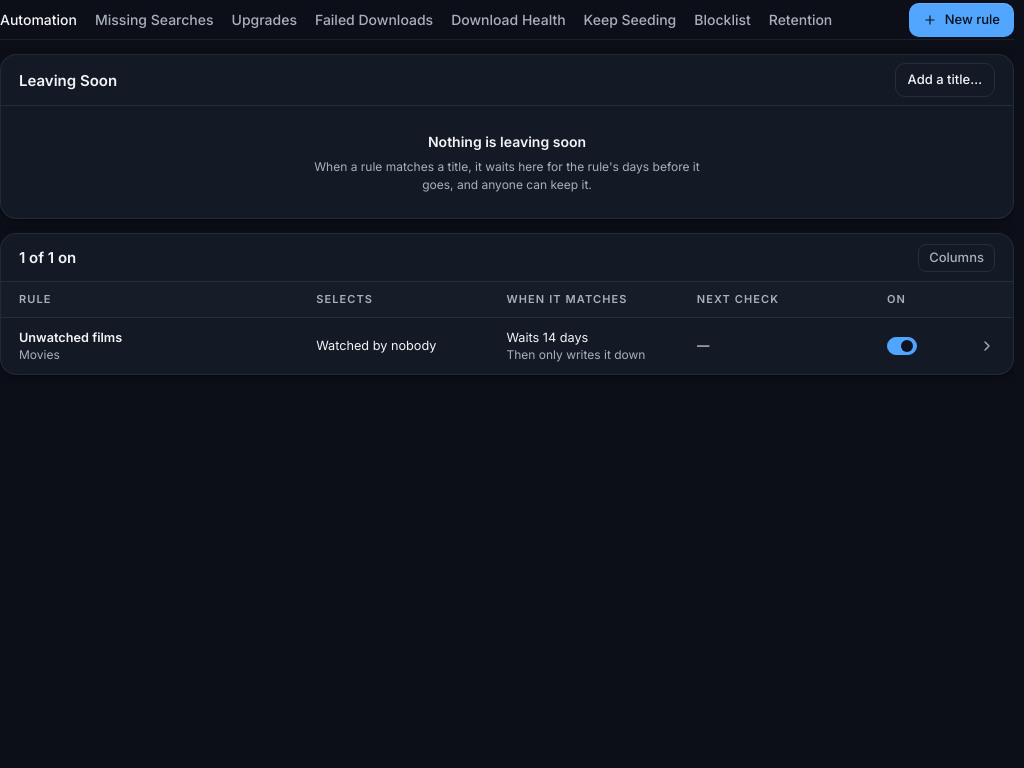
Scenario: Editing and switching a rule › opens the saved rule, and Save rule puts it back and says Saved just now
Click the text "Unwatched films": (71, 337) [19,330,122,345]
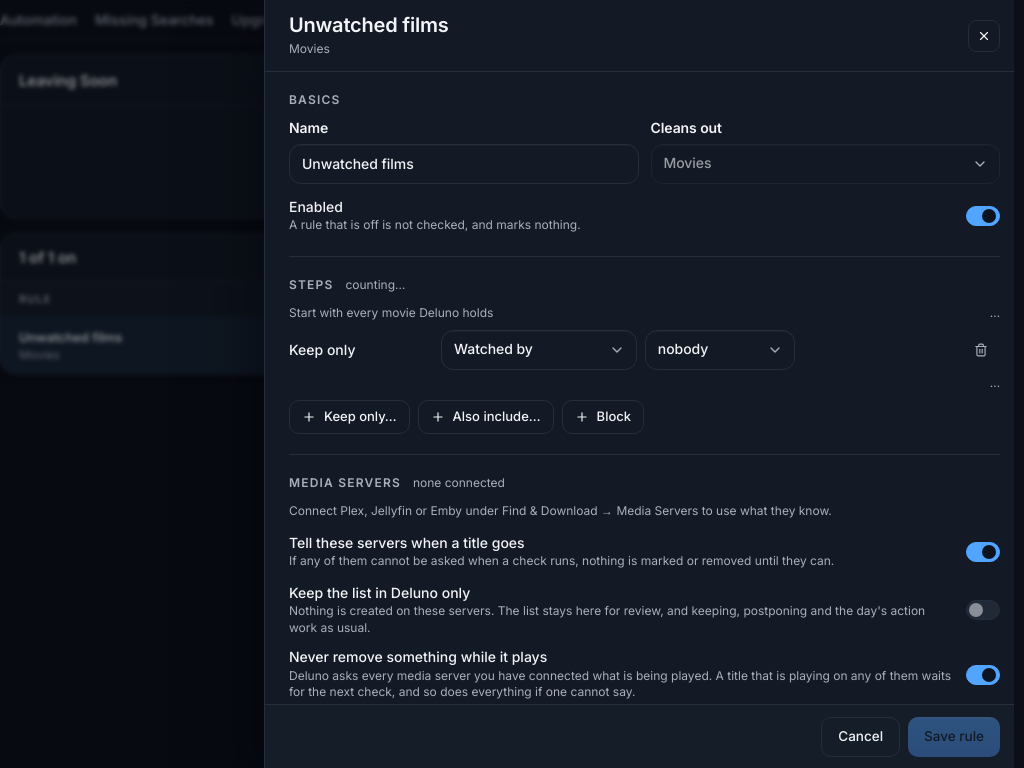
Expected: the field labelled "Name" holds "Unwatched films"
Expected: the dropdown labelled "Cleans out" is shown, [650,144,1000,184]
In the field labelled "Name": (464, 164) [289,144,638,184], type "Unwatched films (old)"
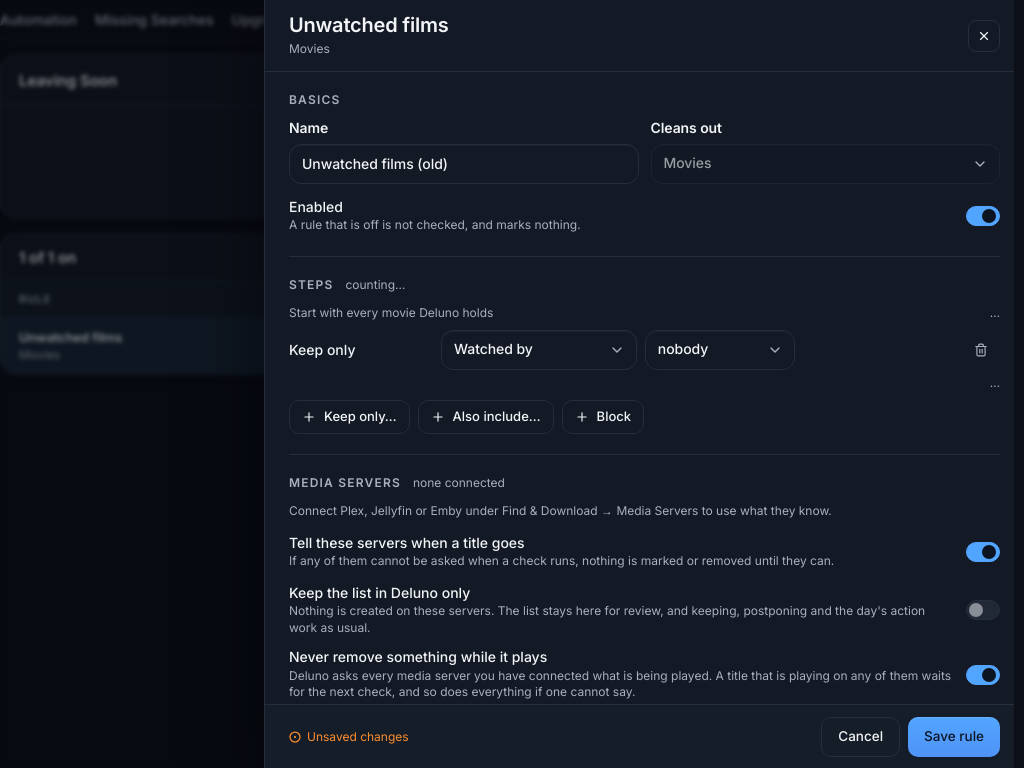
Click the button "Save rule": (954, 736) [908,716,1000,756]
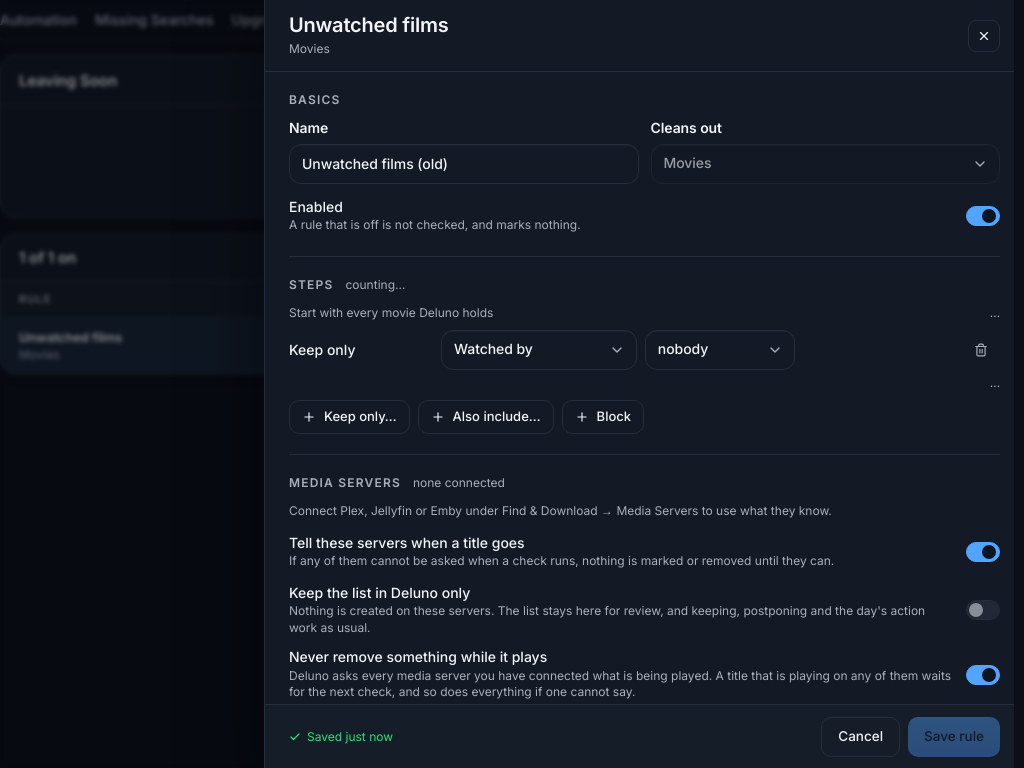
Expected: the text "Saved just now" is shown, [307,728,393,746]
